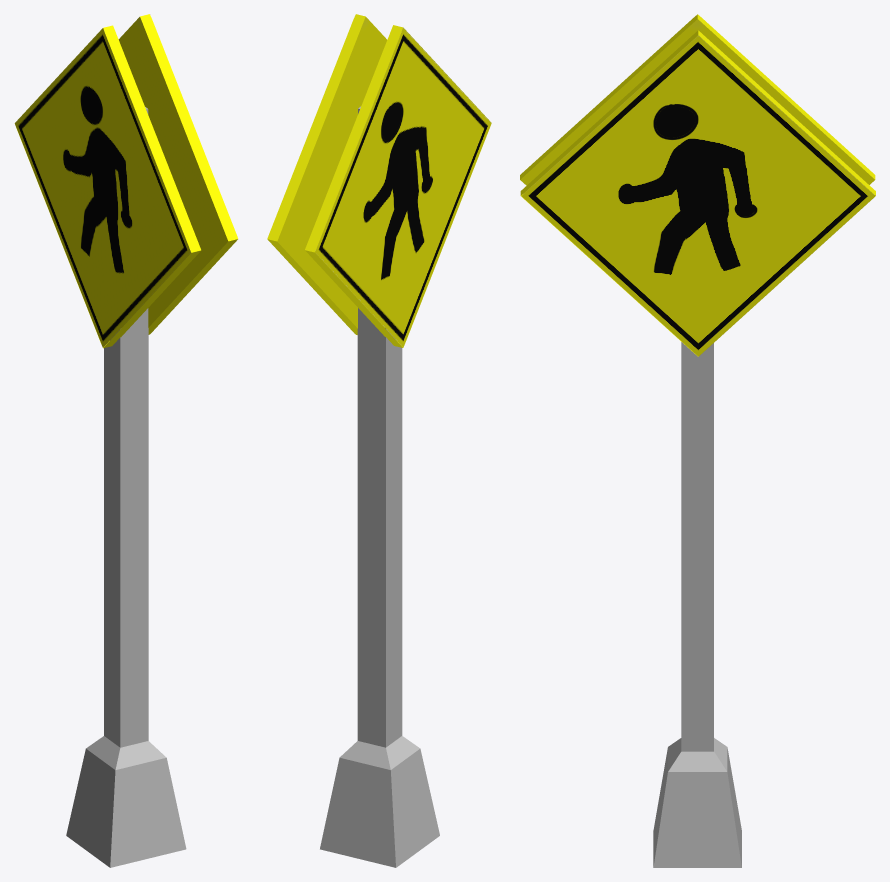
Rendered from Cross Sign.fbx.
3 renders of one model, left to right at view 1: azimuth 30°, elevation 25°; view 2: azimuth 150°, elevation 25°; view 3: azimuth 270°, elevation 25°, orthographic.
Parts seen in each view (by area): view 1: Cross Sign; view 2: Cross Sign; view 3: Cross Sign.
Boxes of the visible parts, box(x1,y1,x2,y2) form: Cross Sign: box(14, 14, 238, 867); Cross Sign: box(267, 14, 491, 867); Cross Sign: box(520, 14, 875, 867).
Size of the model in its own units: 0.5347 by 2.15 by 5.51.
Materials: 1 (1 with a texture image).
